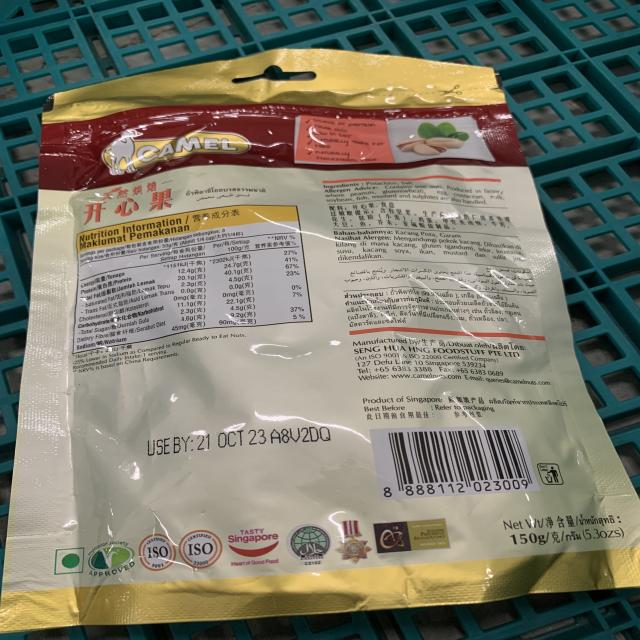object_name: (39, 58, 613, 606)
